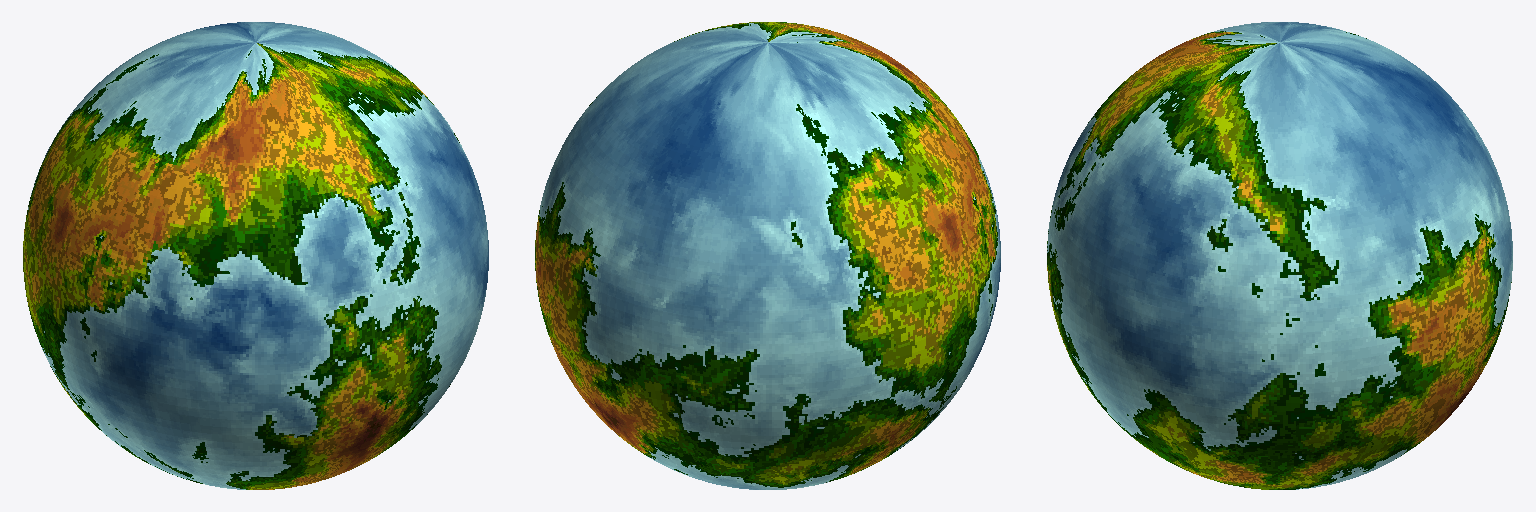
3 views of the same model, side by side, from view 1: azimuth 30°, elevation 25°; view 2: azimuth 150°, elevation 25°; view 3: azimuth 270°, elevation 25° (orthographic).
Parts seen in each view (by area): view 1: Sphere; view 2: Sphere; view 3: Sphere.
Boxes of the visible parts, box(x1,y1,x2,y2) form: Sphere: box(23, 22, 488, 489); Sphere: box(535, 22, 1000, 489); Sphere: box(1047, 22, 1512, 489).
Size of the model in its own units: 4.32 by 4.37 by 4.32.
Materials: 1 (1 with a texture image).